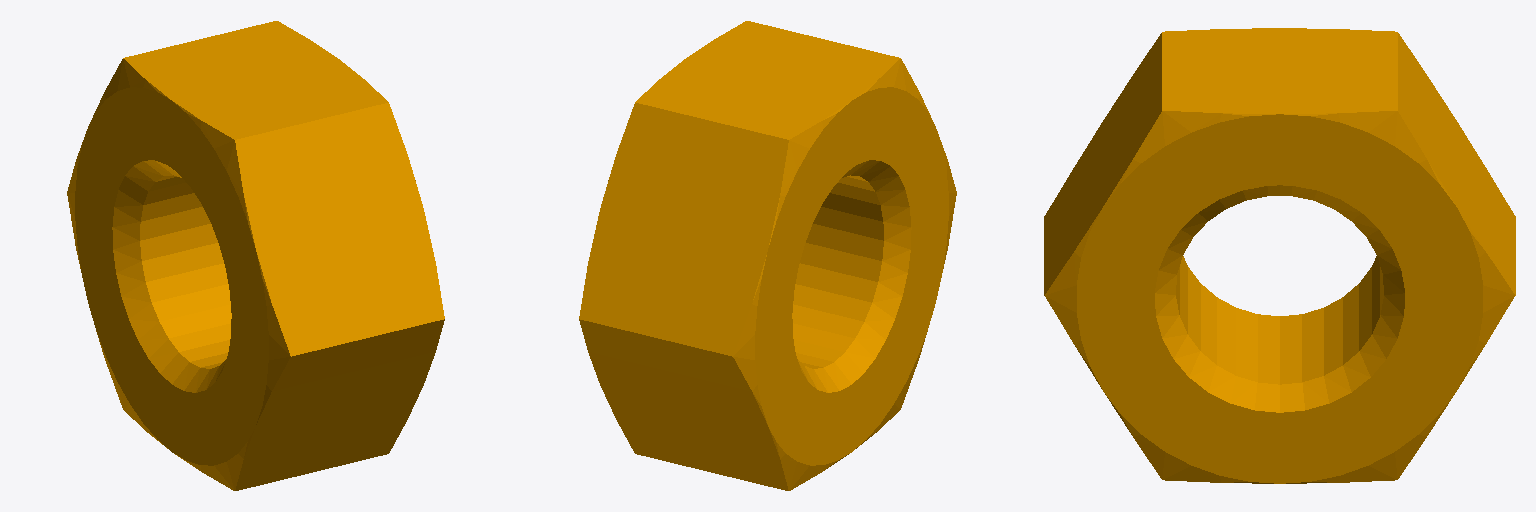
The robot description file, URDF, robot "Hexagon_nut_M08":
<?xml version="1.0"?>
<robot name="Hexagon_nut_M08">
    <link name="Hexagon_nut_M08">
        <visual>
            <geometry>
                <mesh filename="../mesh/factory_nut_bolt/Hexagon_nuts_M08.obj" scale="0.005 0.005 0.005"/>
            </geometry>
        </visual>
        <collision>
            <geometry>
                <mesh filename="../mesh/factory_nut_bolt/Hexagon_nuts_M08.obj" scale="0.005 0.005 0.005"/>
            </geometry>
            <sdf resolution="512"/>
        </collision>
    </link>
</robot>

--- Render facts (derived) ---
3 views of the same robot in one strip: view 1: azimuth 30°, elevation 25°; view 2: azimuth 150°, elevation 25°; view 3: azimuth 270°, elevation 25° (orthographic).
Robot: Hexagon_nut_M08 — 1 links, 0 joints (none); root link Hexagon_nut_M08; default pose: every joint at zero.
Visible links, largest first — view 1: Hexagon_nut_M08; view 2: Hexagon_nut_M08; view 3: Hexagon_nut_M08.
Link boxes in pixels (bbox=[...]): Hexagon_nut_M08: bbox=[67, 21, 444, 490]; Hexagon_nut_M08: bbox=[579, 21, 956, 490]; Hexagon_nut_M08: bbox=[1044, 28, 1515, 483].
Bounding box of the posed robot: 0.0325 × 0.0751 × 0.065 m (x, y, z).
Meshes: 1 distinct files referenced, 1 mesh visuals loaded (1 OBJ).